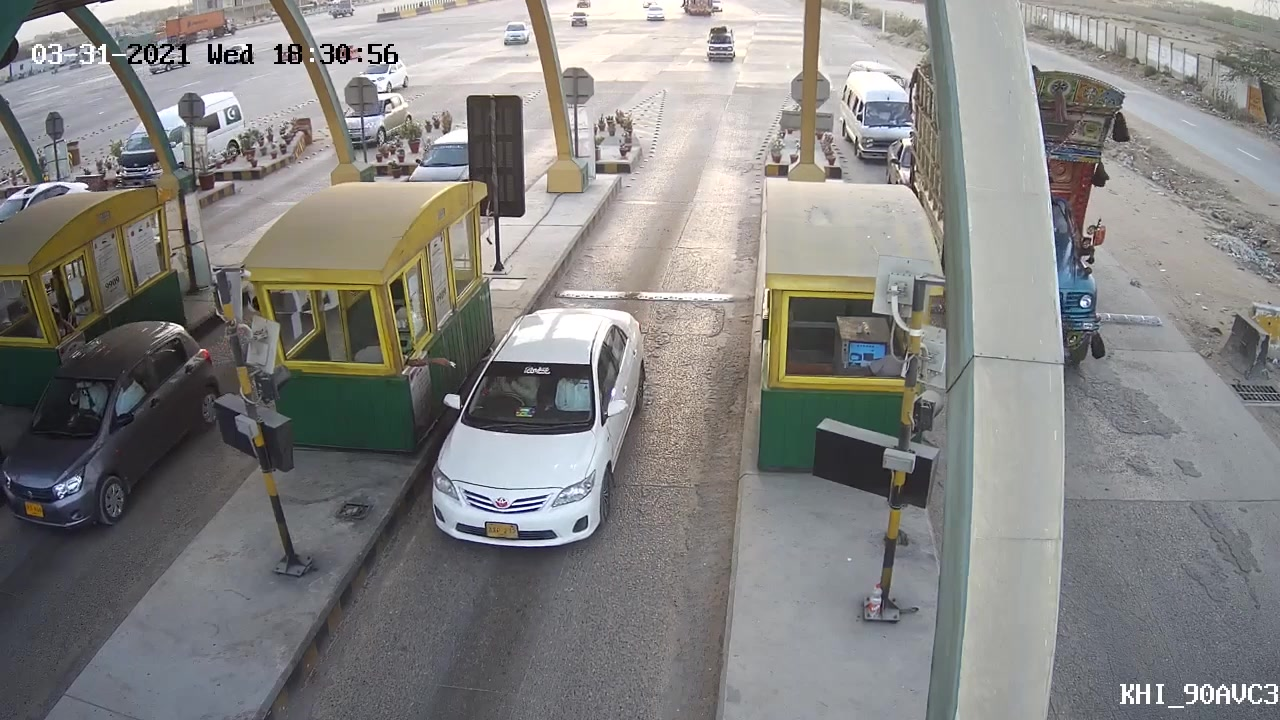F1: (421, 301, 649, 551)
